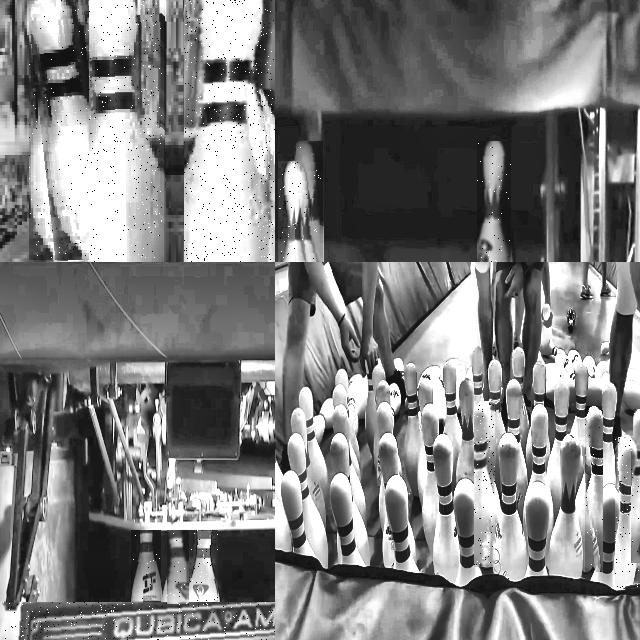bowling-pins: (185, 0, 274, 262), (85, 0, 162, 262), (29, 0, 89, 260), (286, 433, 328, 567), (492, 432, 528, 581), (549, 434, 583, 578), (477, 142, 510, 262), (433, 433, 459, 583), (615, 438, 639, 589), (474, 401, 495, 566), (329, 473, 364, 566), (547, 376, 570, 516), (385, 475, 418, 572), (298, 386, 327, 496), (592, 484, 622, 589), (506, 378, 528, 519), (280, 470, 315, 557), (454, 478, 481, 586), (297, 142, 321, 262), (523, 481, 553, 577), (586, 406, 603, 572), (421, 403, 439, 553), (284, 161, 309, 262), (404, 362, 422, 495), (455, 375, 477, 483), (488, 358, 506, 489), (443, 360, 462, 484), (132, 531, 161, 602), (599, 382, 618, 490), (189, 531, 218, 601), (527, 403, 549, 486), (373, 401, 394, 481), (571, 363, 589, 454), (167, 530, 188, 604), (352, 500, 369, 564), (290, 407, 306, 464), (329, 433, 350, 476), (275, 495, 291, 551), (263, 92, 275, 161), (383, 510, 395, 567), (471, 344, 484, 394), (634, 458, 640, 563), (393, 475, 407, 496), (407, 522, 414, 560), (336, 540, 341, 561)
sweep board: (20, 602, 275, 640)
